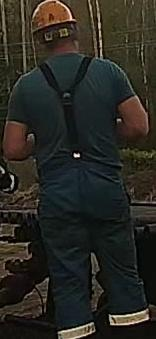helmet: (30, 0, 77, 39)
